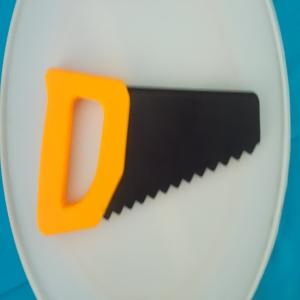serrote: (36, 65, 262, 239)
